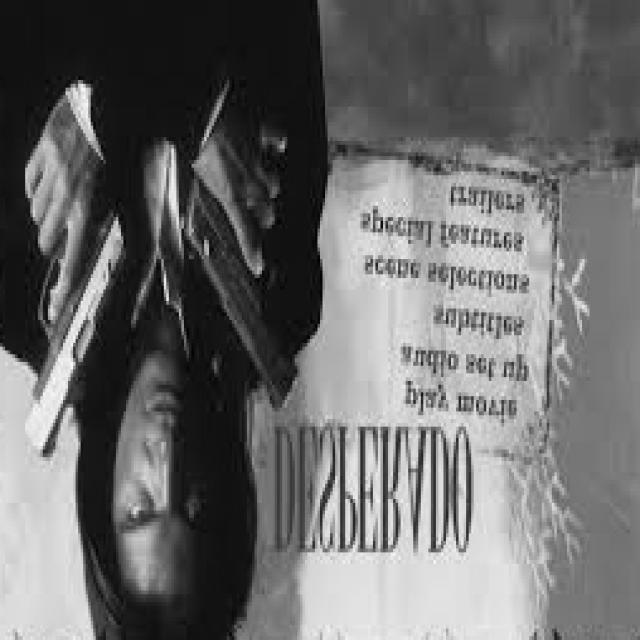gun: (9, 95, 335, 472)
